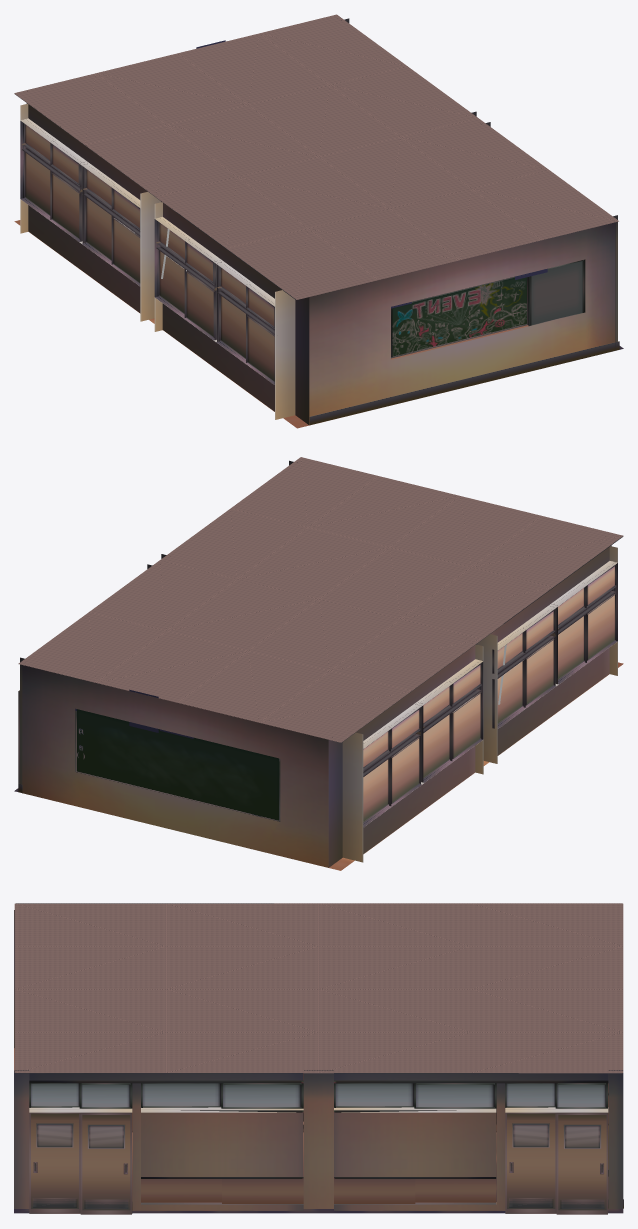
File: JpClasRoom_evening.FBX
3 views of the same model, one above another, from view 1: azimuth 30°, elevation 25°; view 2: azimuth 150°, elevation 25°; view 3: azimuth 270°, elevation 25° (orthographic). The views are drawn at different scales.
Visible parts, largest first — view 1: crm_ceiling board_eve, crm_wallL_eve, crm_wallB_eve, crm_blackboardB_eve, crm_baseboards_B_eve000; view 2: crm_ceiling board_eve, crm_wallL_eve, rm_wallF_eve, crm_blackboardF_eve; view 3: crm_ceiling board_eve, crm_wallR_eve, crm_doorL_f_eve, crm_doorL_b_eve, crm_doorR_f_eve, crm_doorR_b_eve, crm_floor_eve.
Boxes of the visible parts, bbox=[...] form: crm_ceiling board_eve: bbox=[14, 14, 618, 299]; crm_wallL_eve: bbox=[20, 103, 309, 424]; crm_wallB_eve: bbox=[309, 222, 615, 424]; crm_blackboardB_eve: bbox=[391, 276, 529, 358]; crm_baseboards_B_eve000: bbox=[309, 341, 619, 424]; crm_ceiling board_eve: bbox=[18, 457, 623, 742]; crm_wallL_eve: bbox=[328, 545, 617, 867]; rm_wallF_eve: bbox=[22, 665, 328, 867]; crm_blackboardF_eve: bbox=[75, 709, 280, 821]; crm_ceiling board_eve: bbox=[14, 903, 623, 1073]; crm_wallR_eve: bbox=[14, 1070, 623, 1213]; crm_doorL_f_eve: bbox=[556, 1112, 607, 1214]; crm_doorL_b_eve: bbox=[80, 1112, 131, 1214]; crm_doorR_f_eve: bbox=[505, 1112, 556, 1213]; crm_doorR_b_eve: bbox=[29, 1112, 80, 1213]; crm_floor_eve: bbox=[14, 1048, 623, 1213].
Size of the model in its own units: 828 by 303 by 1201.
